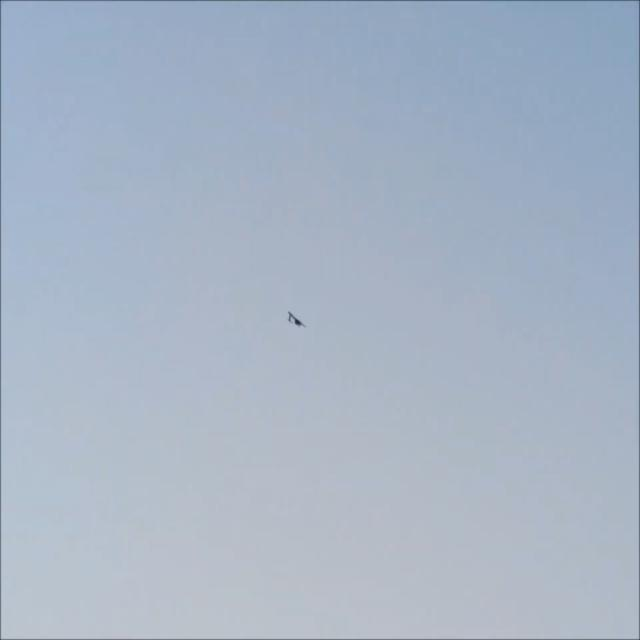UAV: (269, 278, 305, 348)
